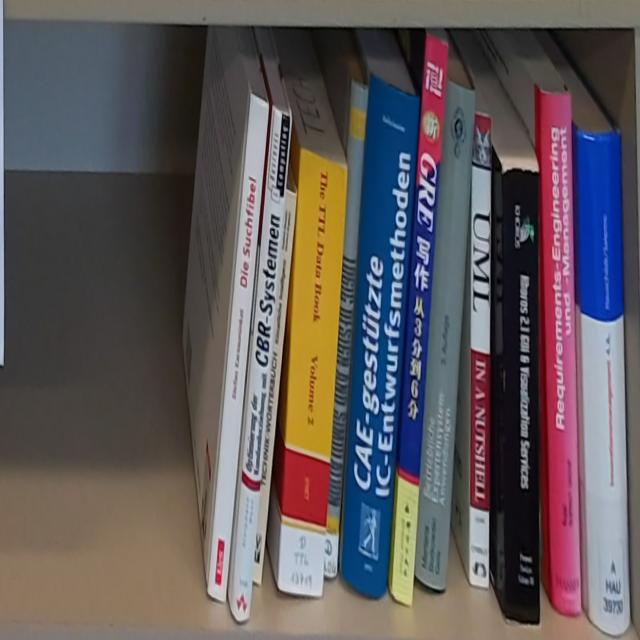Book Spine: (343, 77, 423, 604), (224, 103, 293, 627), (392, 37, 452, 612), (208, 94, 274, 602), (280, 144, 350, 597), (414, 78, 475, 596), (574, 127, 631, 637), (535, 78, 582, 621), (326, 81, 370, 583), (253, 189, 299, 594), (501, 166, 540, 623), (468, 111, 494, 595)
